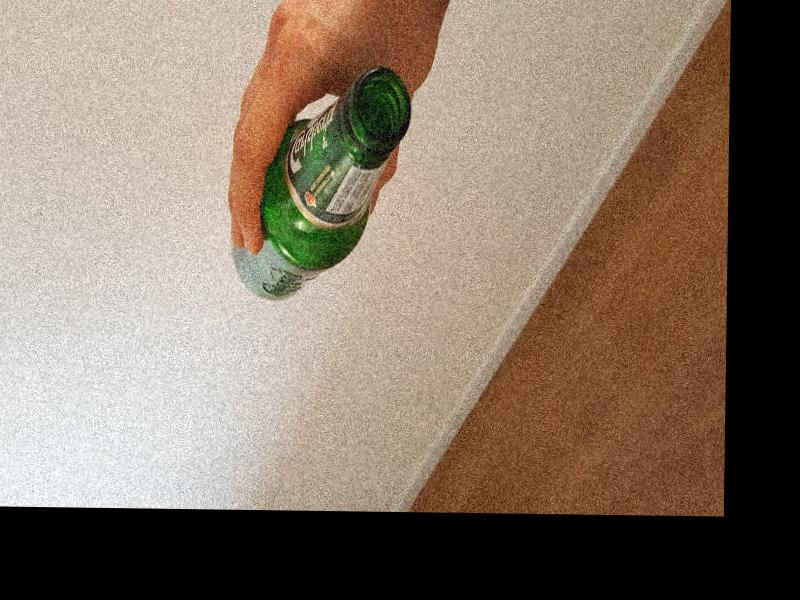Beer: (233, 63, 415, 302)
